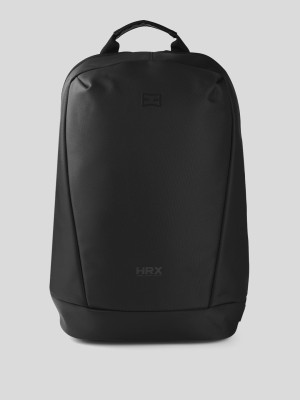backpack: (49, 19, 249, 343)
